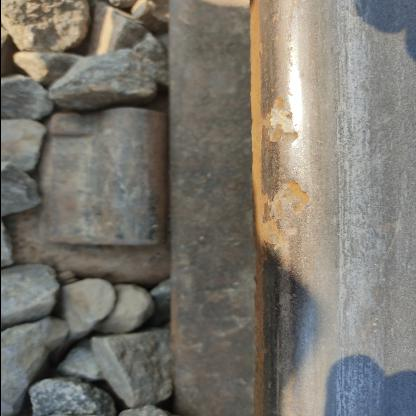Defective: (1, 76, 214, 276)
